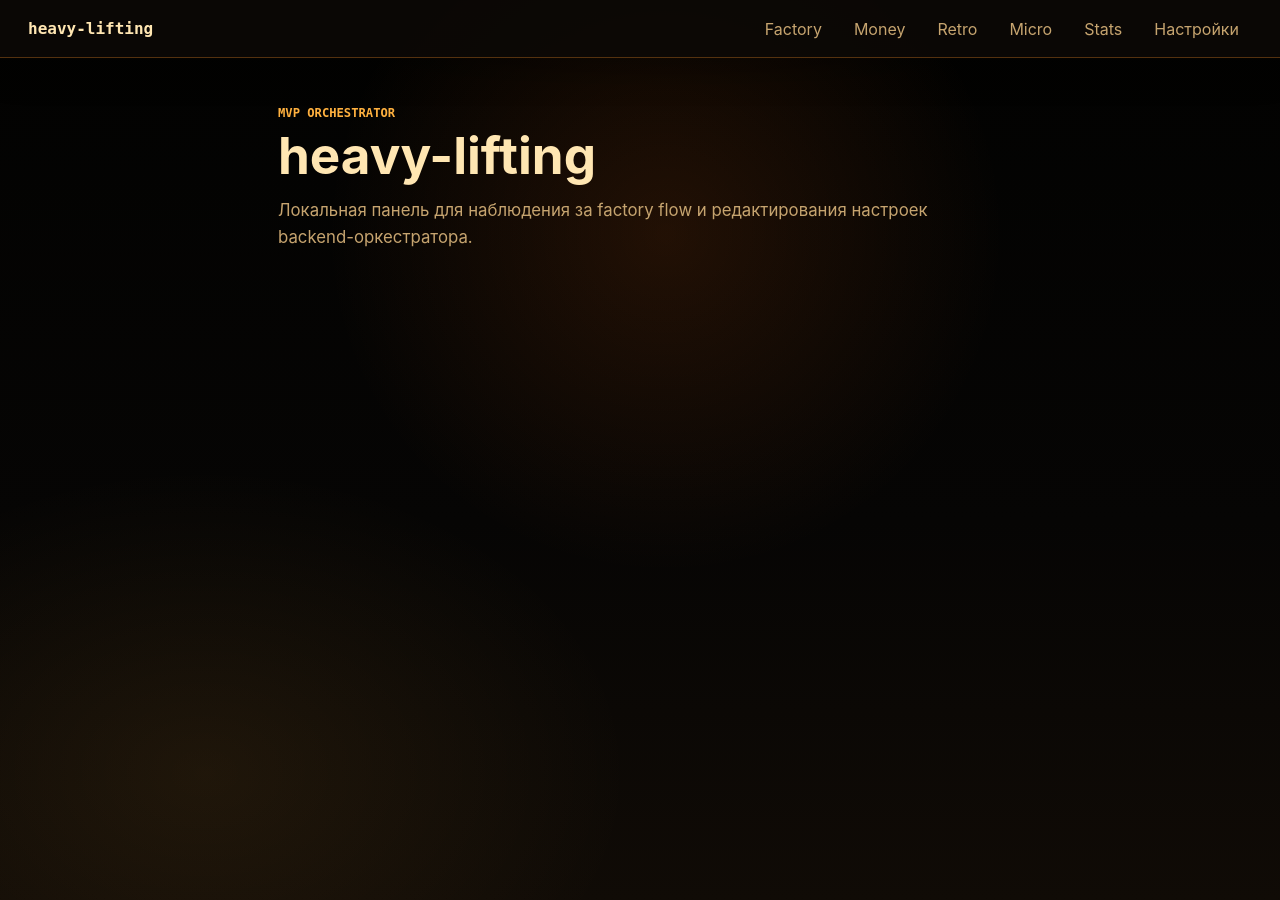
Test case: App › opens factory from the topbar and shows loading state
Click the button "Factory". click: [793, 28]
box: 752,10 -> 835,48
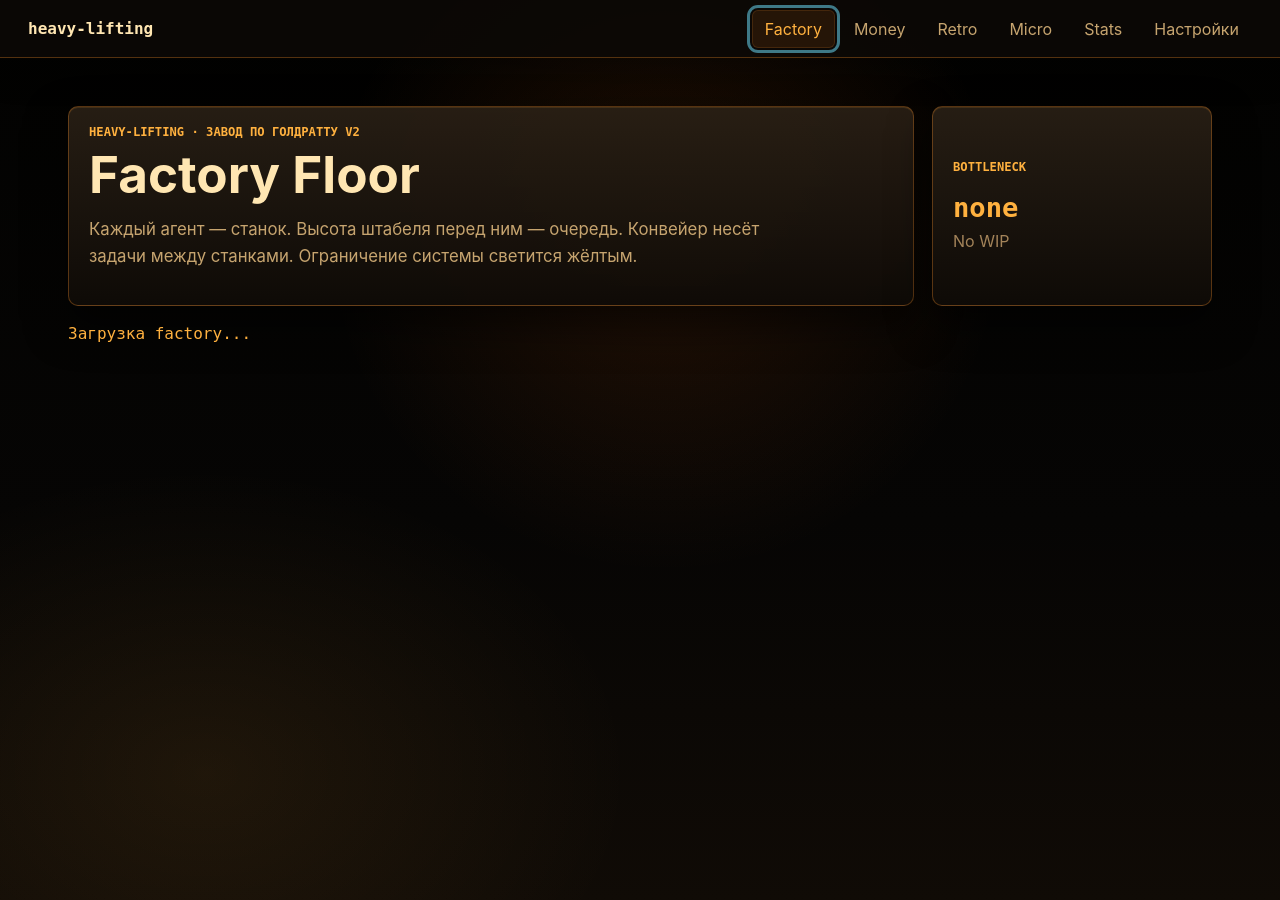
Expected: the heading "Factory Floor" is shown, 89,143 -> 420,205
Expected: the text "Загрузка factory..." is shown, 68,324 -> 251,343
